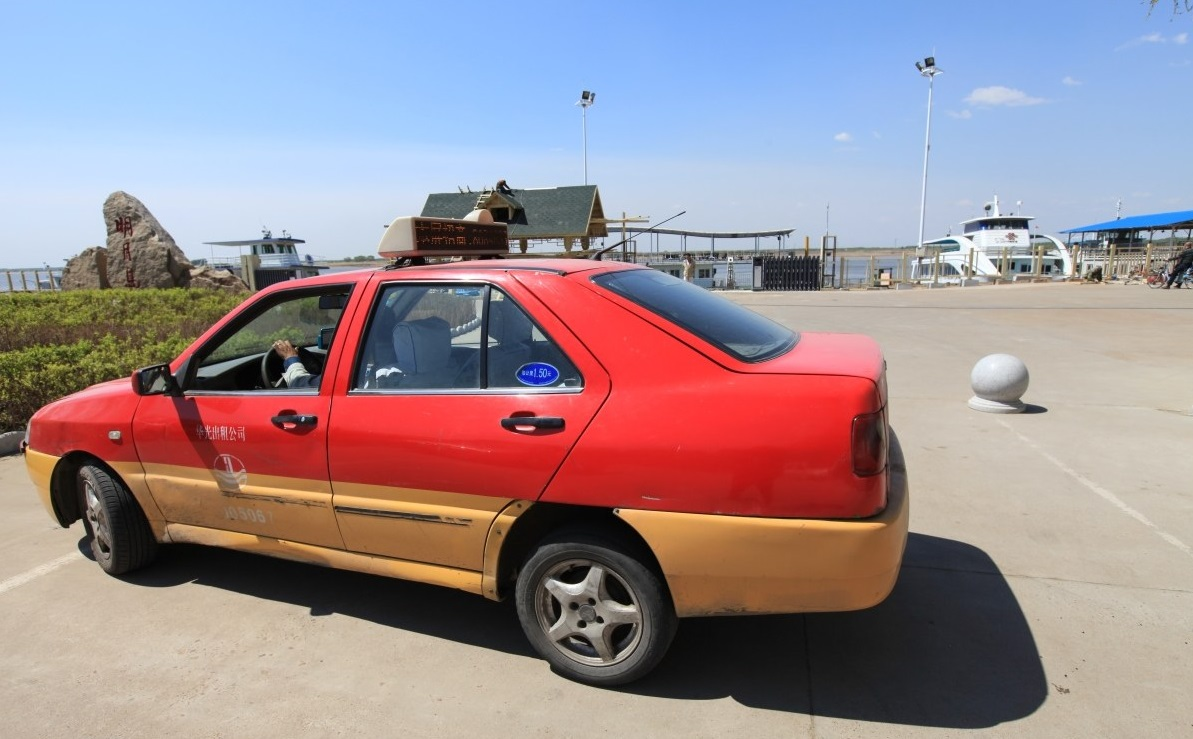taxi: (16, 211, 917, 676)
